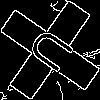U: (25, 25, 84, 81)
